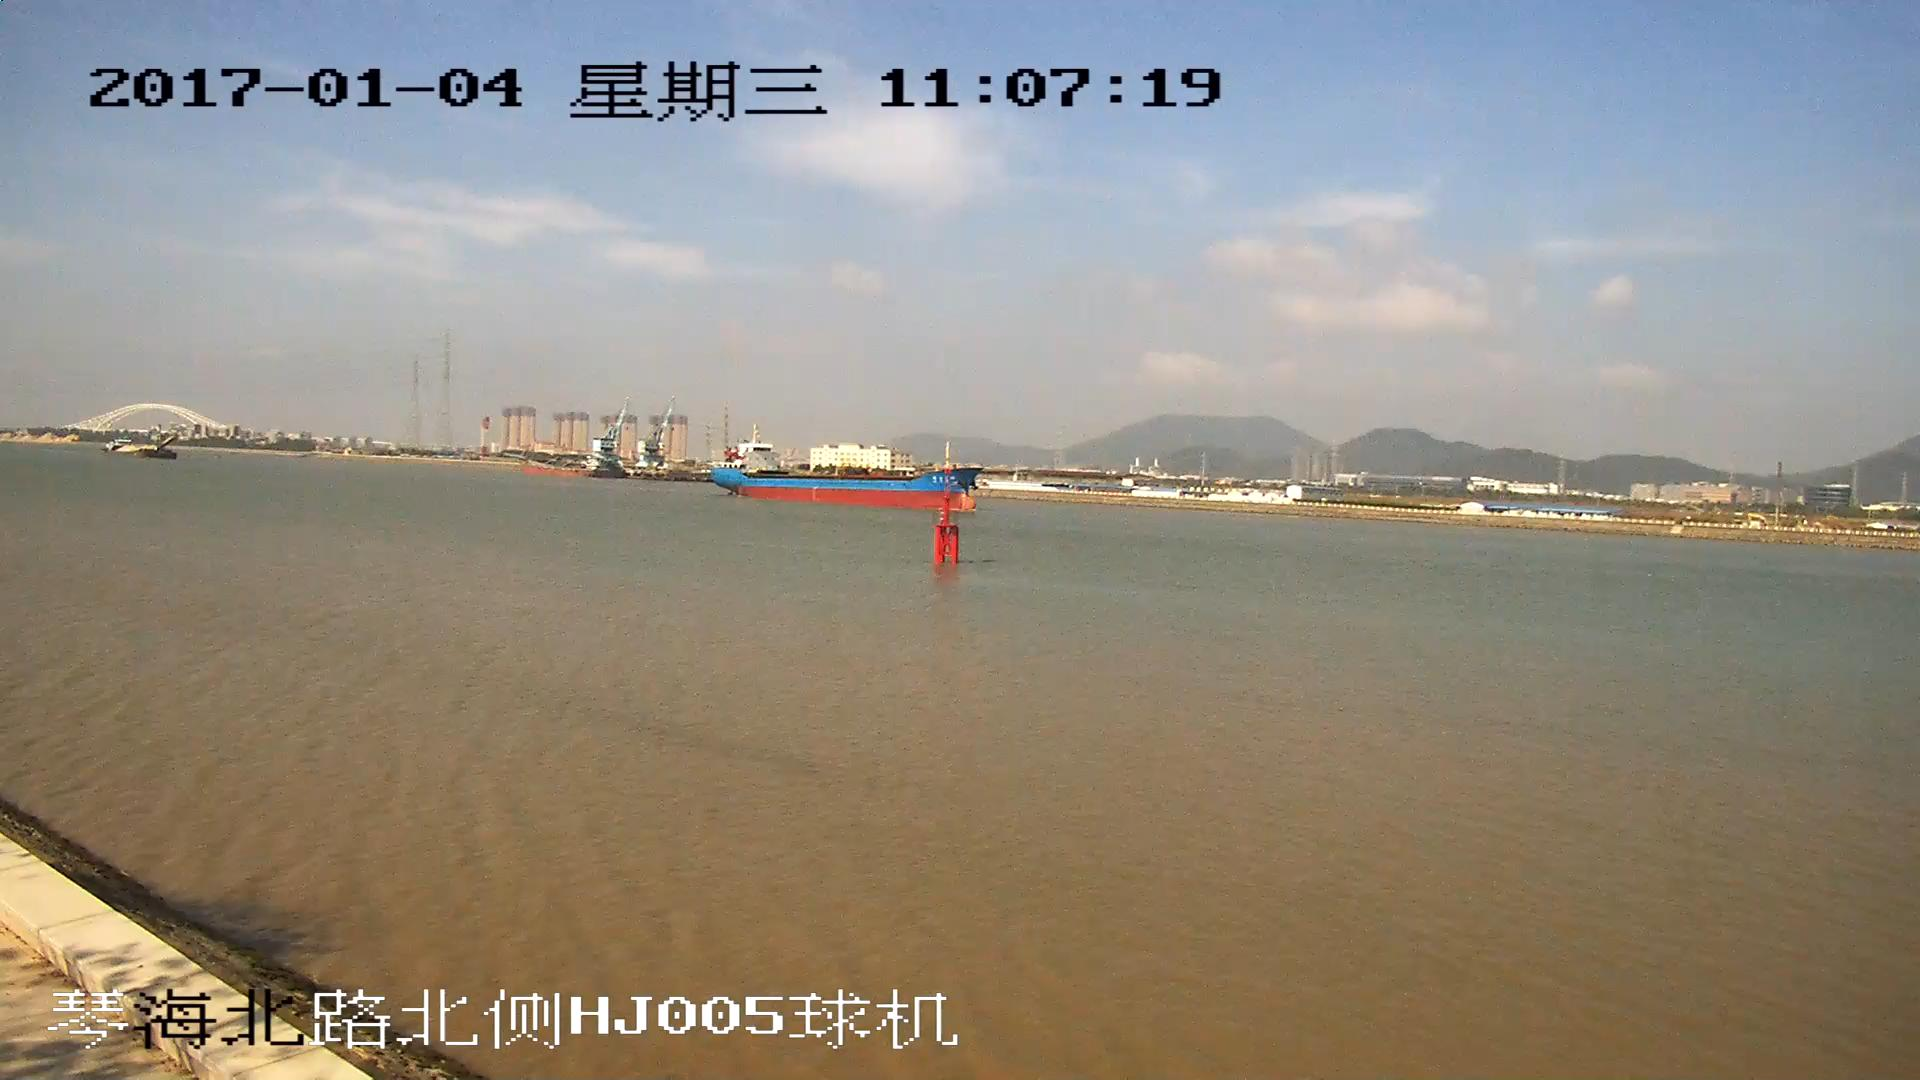general cargo ship: (711, 435, 979, 519)
